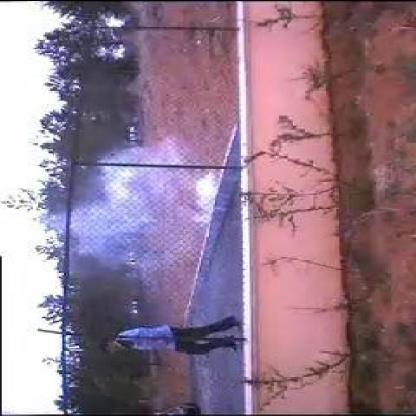-: (68, 152, 218, 274)
